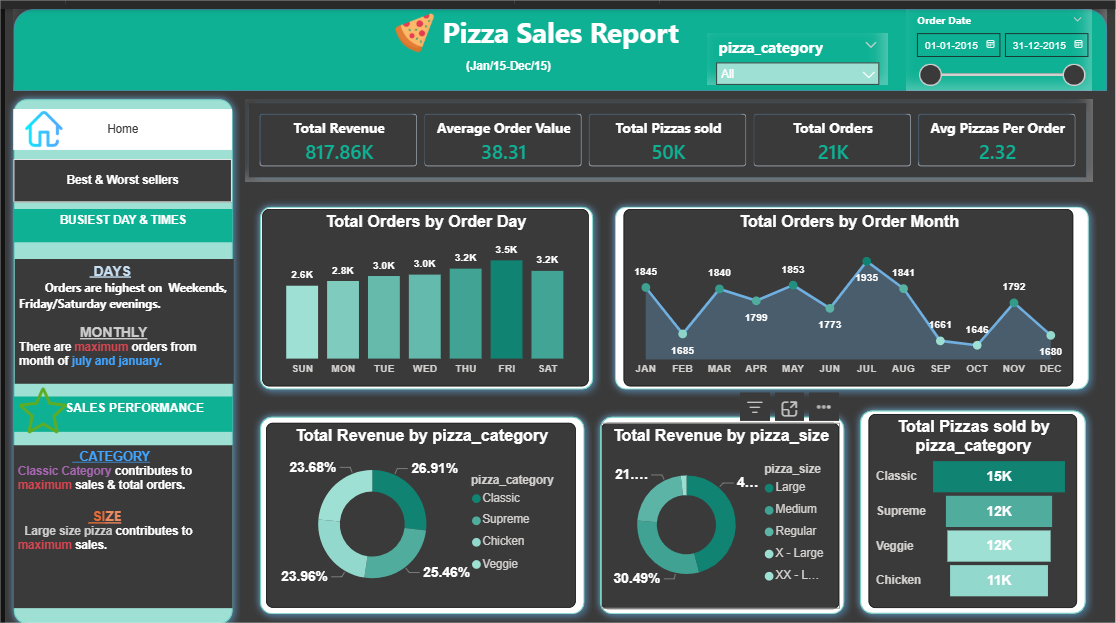

What the dashboard file says about the page in this screenshot:
{"tool":"powerbi","page":{"name":"Home","canvas":[1280,720],"ordinal":0},"visuals":[{"type":"shape","box":[275,103.7,975,95.8],"z":0},{"type":"cardVisual","fields":{"Data":["public pizza_sales.Total Revenue","public pizza_sales.Average Order Value","public pizza_sales.Total Pizzas sold","public pizza_sales.Total Orders","public pizza_sales.avg Pizzas Per Order"]},"box":[275,103.7,979.5,95.8],"z":1000},{"type":"shape","box":[9,0,1262.4,94.7],"z":2000},{"type":"textbox","box":[445.8,0,354.8,53.9],"z":3000},{"type":"textbox","box":[515.1,54.1,129.6,30.4],"z":4000},{"type":"shape","box":[284,219.8,402.4,228.8],"z":5000},{"type":"clusteredColumnChart","fields":{"Category":["public pizza_sales.Order Date"],"Y":["public pizza_sales.Total Orders"]},"box":[295.8,230.8,376.6,204.9],"z":6000},{"type":"shape","box":[694.3,218.7,564.7,228.8],"z":7000},{"type":"shape","box":[284,462.1,392.2,245.7],"z":8000},{"type":"lineChart","fields":{"Category":["public pizza_sales.Order Month"],"Y":["public pizza_sales.Total Orders"]},"box":[717.8,230.7,522.7,204.9],"z":9000},{"type":"shape","box":[676.3,462.1,299.8,245.7],"z":10000},{"type":"shape","box":[976.7,454.5,278.5,252.5],"z":11000},{"type":"donutChart","fields":{"Category":["public pizza_sales.pizza_category"],"Y":["public pizza_sales.Total Revenue"]},"box":[300.1,477.6,357.8,213.5],"z":12000},{"type":"donutChart","fields":{"Category":["public pizza_sales.pizza_size"],"Y":["public pizza_sales.Total Revenue"]},"box":[689.6,477.3,274.8,214.7],"z":13000},{"type":"funnel","fields":{"Category":["public pizza_sales.pizza_category"],"Y":["public pizza_sales.Total Pizzas sold"]},"box":[995.5,467.5,240.9,223.6],"z":14000},{"type":"shape","box":[0,95.8,270.5,623.3],"z":15000},{"type":"textbox","box":[9,231.1,252.5,38.3],"z":16000},{"type":"textbox","box":[10.1,288.6,252.5,144.3],"z":17000},{"type":"textbox","box":[9,447.5,252.5,40.6],"z":18000},{"type":"textbox","box":[9,503.8,252.5,188.2],"z":19000},{"type":"slicer","fields":{"Values":["public pizza_sales.pizza_category"]},"box":[809.3,27.1,208.5,60.9],"z":20000},{"type":"slicer","fields":{"Values":["public pizza_sales.order_date"]},"box":[1039.2,0,215.3,94.7],"z":21000},{"type":"pageNavigator","box":[9,116.1,252.5,47.3],"z":22000},{"type":"pageNavigator","box":[9,173.6,252.5,50.7],"z":23000},{"type":"image","box":[429.1,4.8,86.3,46.7],"z":24000},{"type":"image","box":[9.6,116.3,67.1,43.1],"z":25000},{"type":"image","box":[0,435.1,86.3,55.1],"z":26000}]}

Visuals, with their boxes in screenshot pixels (x1, y1, x2, y2), scaled from the page's 1280x720 canvas onto the 1116x623 screenshot:
shape: bbox=(240, 90, 1090, 173)
cardVisual - public pizza_sales.Total Revenue x public pizza_sales.Average Order Value: bbox=(240, 90, 1094, 173)
shape: bbox=(8, 0, 1109, 82)
textbox: bbox=(389, 0, 698, 47)
textbox: bbox=(449, 47, 562, 73)
shape: bbox=(248, 190, 598, 388)
clusteredColumnChart - public pizza_sales.Order Date x public pizza_sales.Total Orders: bbox=(258, 200, 586, 377)
shape: bbox=(605, 189, 1098, 387)
shape: bbox=(248, 400, 590, 612)
lineChart - public pizza_sales.Order Month x public pizza_sales.Total Orders: bbox=(626, 200, 1082, 377)
shape: bbox=(590, 400, 851, 612)
shape: bbox=(852, 393, 1094, 612)
donutChart - public pizza_sales.pizza_category x public pizza_sales.Total Revenue: bbox=(262, 413, 574, 598)
donutChart - public pizza_sales.pizza_size x public pizza_sales.Total Revenue: bbox=(601, 413, 841, 599)
funnel - public pizza_sales.pizza_category x public pizza_sales.Total Pizzas sold: bbox=(868, 405, 1078, 598)
shape: bbox=(0, 83, 236, 622)
textbox: bbox=(8, 200, 228, 233)
textbox: bbox=(9, 250, 229, 375)
textbox: bbox=(8, 387, 228, 422)
textbox: bbox=(8, 436, 228, 599)
slicer - public pizza_sales.pizza_category: bbox=(706, 23, 887, 76)
slicer - public pizza_sales.order_date: bbox=(906, 0, 1094, 82)
pageNavigator: bbox=(8, 100, 228, 141)
pageNavigator: bbox=(8, 150, 228, 194)
image: bbox=(374, 4, 449, 45)
image: bbox=(8, 101, 67, 138)
image: bbox=(0, 376, 75, 424)
